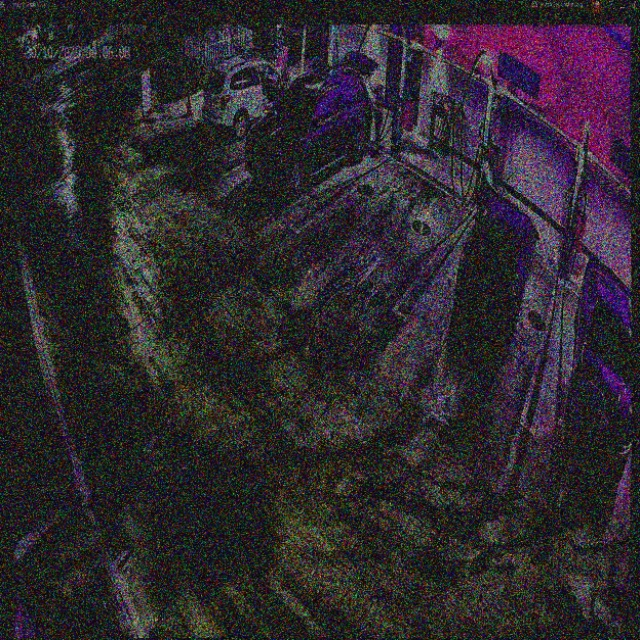Car: (247, 53, 377, 193), (456, 187, 540, 340)
